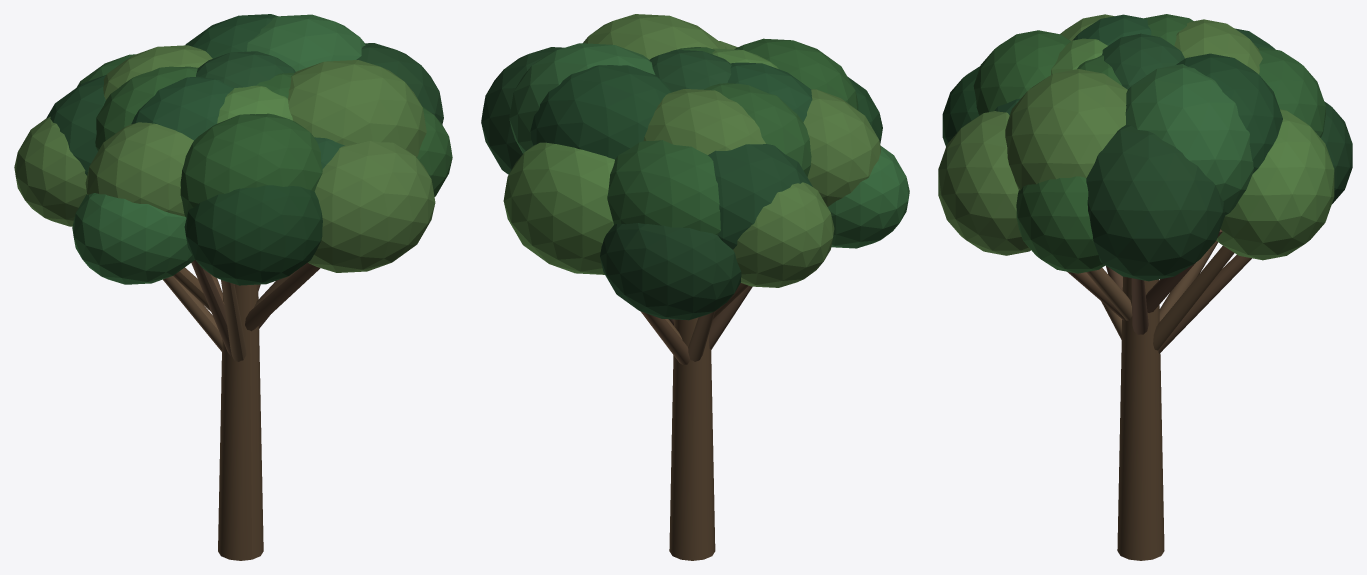
The model's file is broadleaf-spreading.near.glb.
3 renders of one model, left to right at view 1: azimuth 30°, elevation 25°; view 2: azimuth 150°, elevation 25°; view 3: azimuth 270°, elevation 25°, orthographic. The views are drawn at different scales.
Parts seen in each view (by area): view 1: foliage, wood; view 2: foliage, wood; view 3: foliage, wood.
Part boxes in pixels (x1,y1,x2,y2): foliage: [14, 14, 452, 285]; wood: [163, 260, 320, 560]; foliage: [481, 14, 909, 320]; wood: [640, 283, 752, 560]; foliage: [938, 14, 1352, 281]; wood: [1067, 229, 1251, 560].
Size of the model in its own units: 9.7 by 12 by 8.84.
